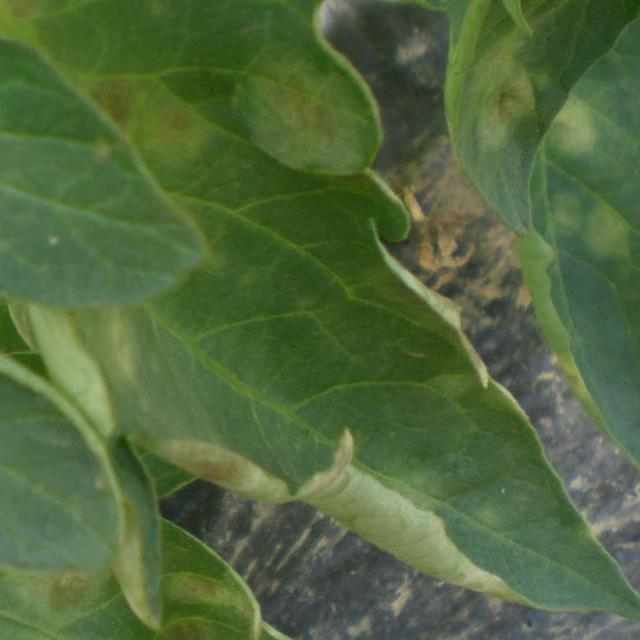Tomato mold leaf: (0, 0, 625, 616), (0, 380, 440, 640), (421, 0, 640, 474)
